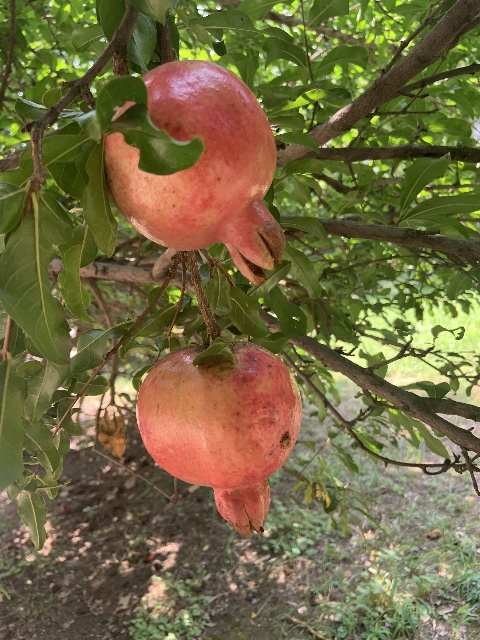ripe: (102, 60, 286, 284), (135, 343, 301, 537)
